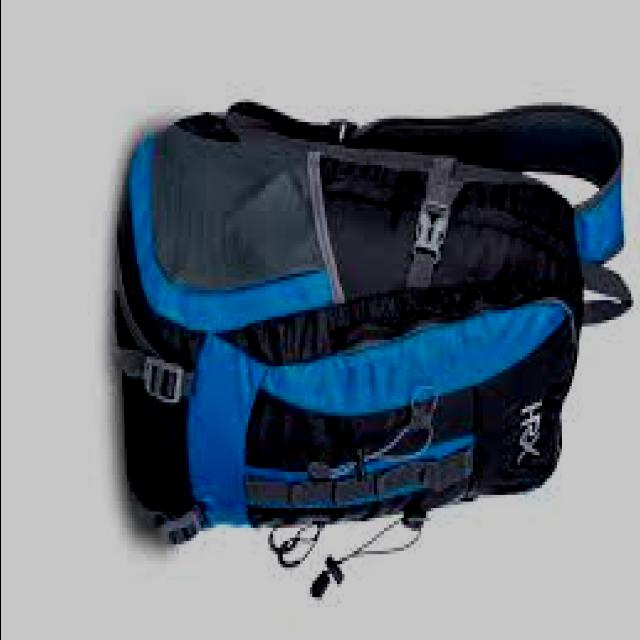backpack: (115, 100, 637, 598)
